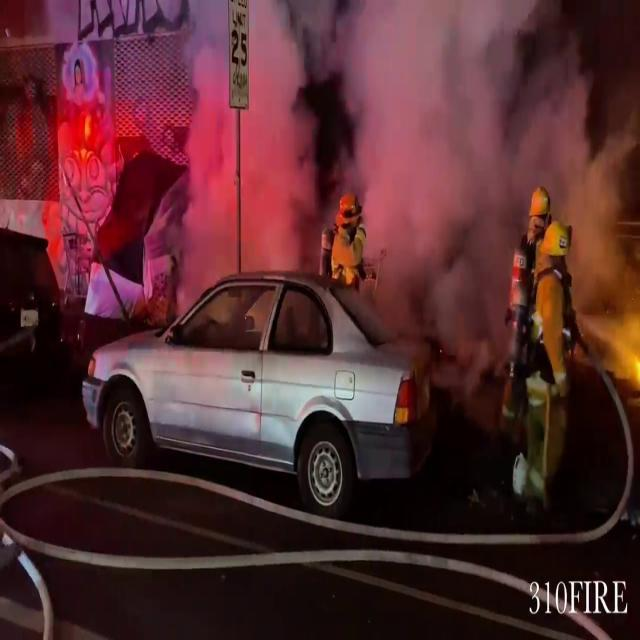Smoke: (342, 0, 640, 426), (173, 3, 317, 300)
